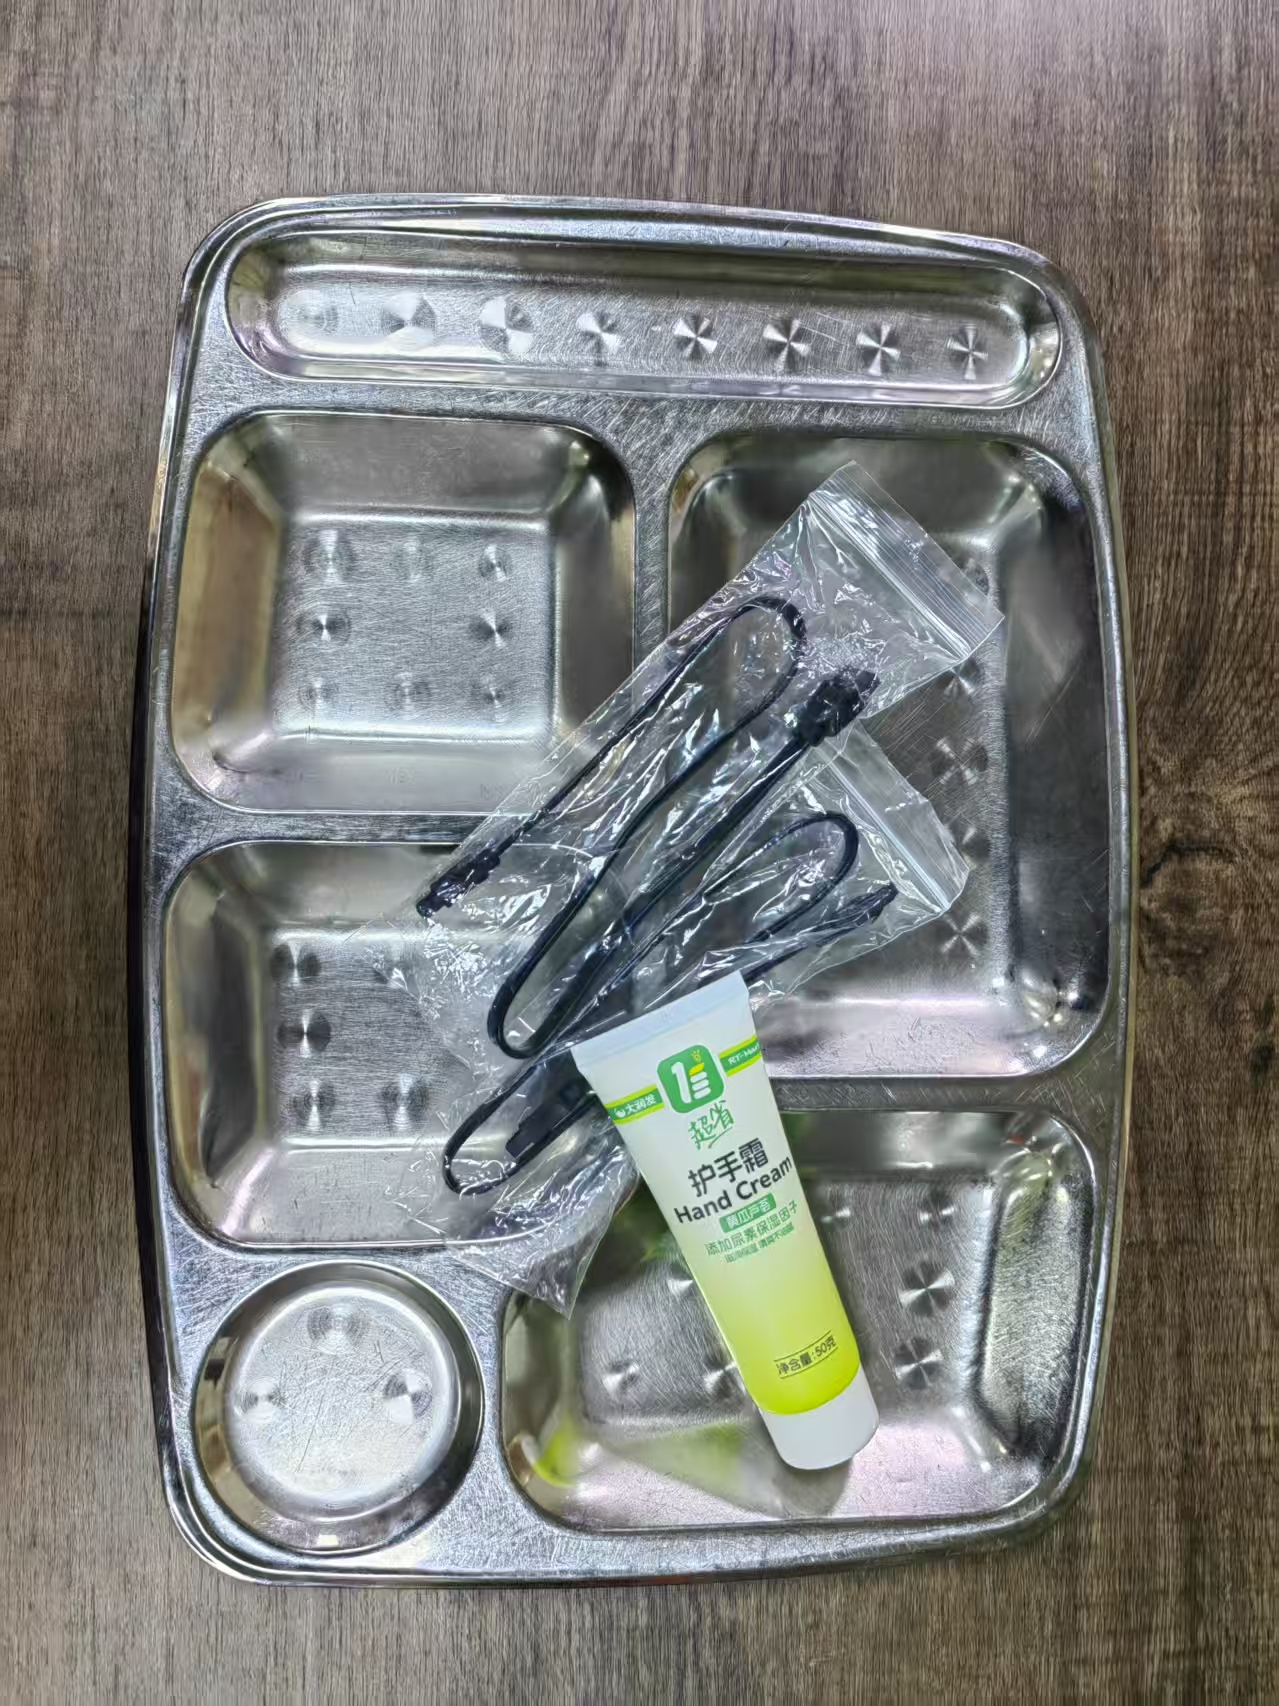moderate: (359, 457, 1000, 1470)
plate: (123, 190, 1141, 1600)
